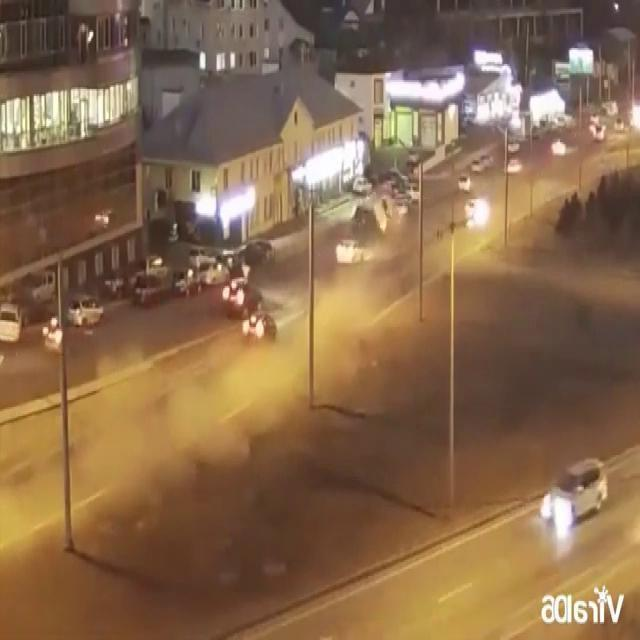multiple_accident: (310, 187, 418, 296), (340, 174, 410, 270)
